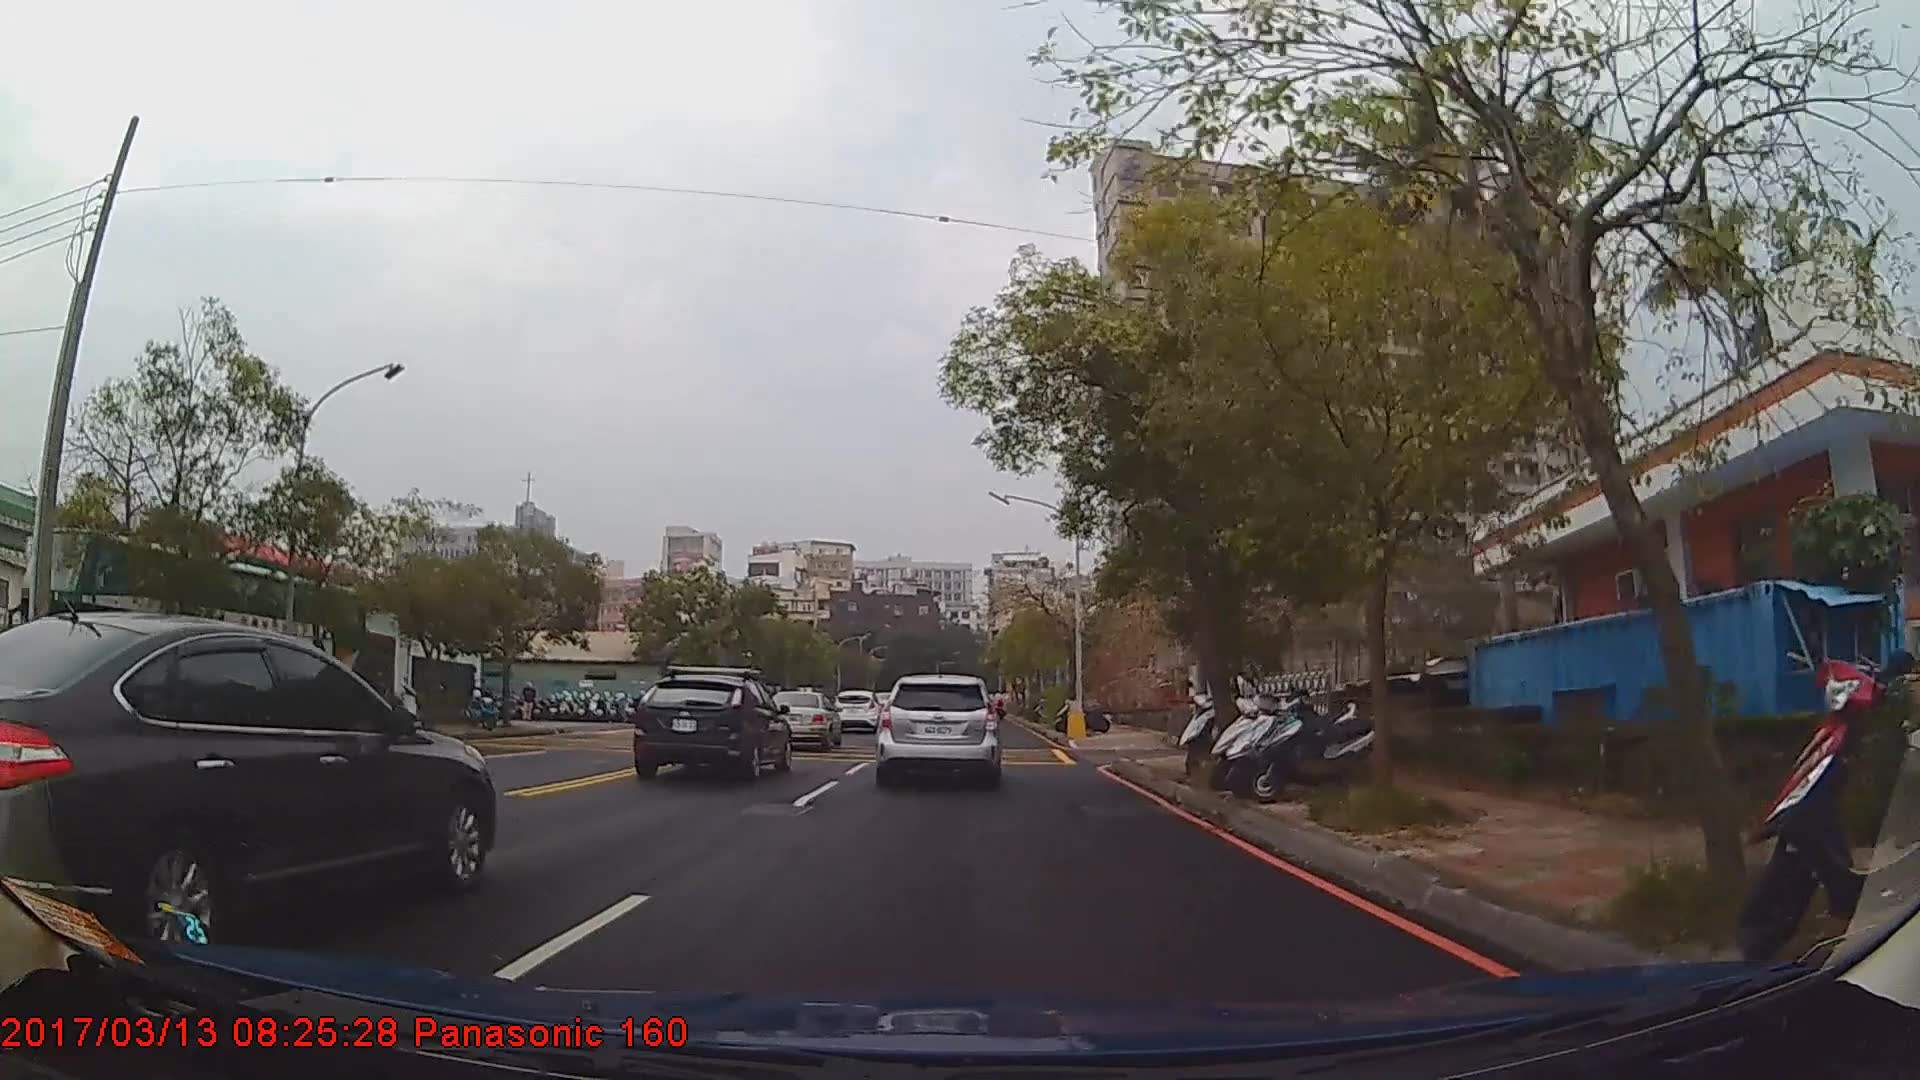vehicle: (0, 607, 495, 952), (0, 524, 363, 746), (630, 670, 793, 782), (877, 671, 1001, 790), (762, 687, 841, 748), (831, 688, 882, 733)
